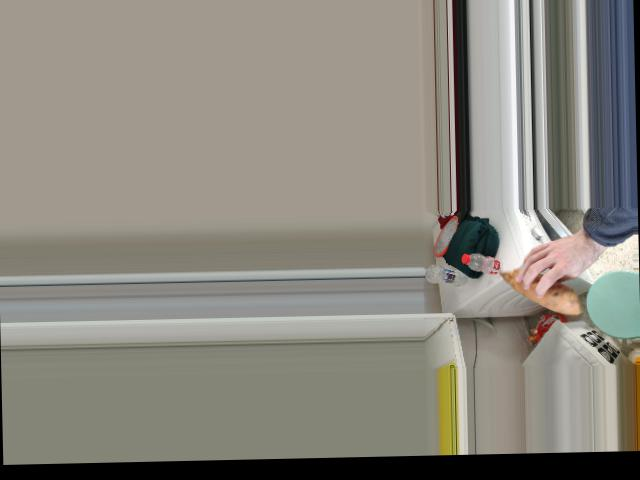sweet_potato: (504, 255, 568, 314)
